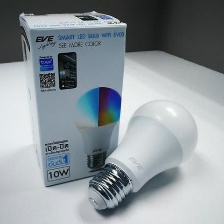carton: (15, 5, 131, 191)
light_bulb: (83, 96, 202, 216)
